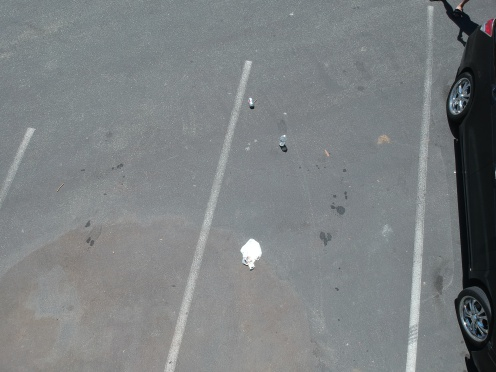bottle: (275, 129, 288, 149)
can: (244, 94, 256, 108)
plastic bag: (234, 236, 266, 271)
